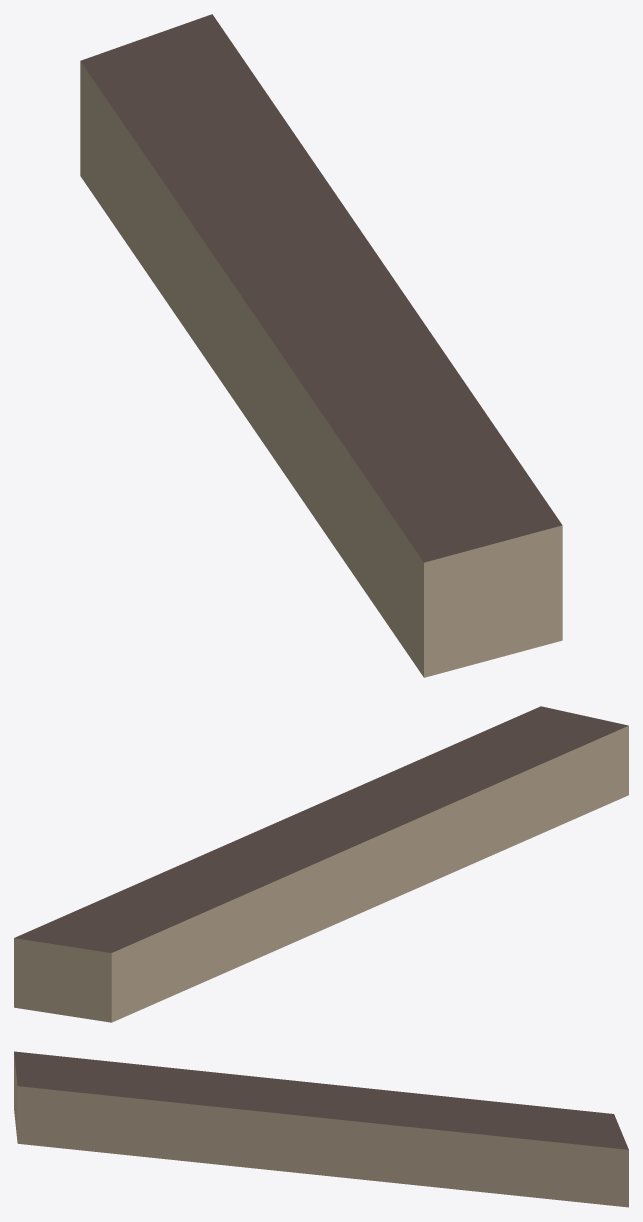
3 views of the same model, one above another, from view 1: azimuth 30°, elevation 25°; view 2: azimuth 150°, elevation 25°; view 3: azimuth 270°, elevation 25° (orthographic). The views are drawn at different scales.
Parts seen in each view (by area): view 1: HP-w859467750; view 2: HP-w859467750; view 3: HP-w859467750.
Part boxes in pixels (x1,y1,x2,y2): HP-w859467750: [80, 14, 562, 677]; HP-w859467750: [14, 706, 628, 1022]; HP-w859467750: [14, 1051, 628, 1207].
Size of the model in its own units: 32.96 by 9 by 87.05.
